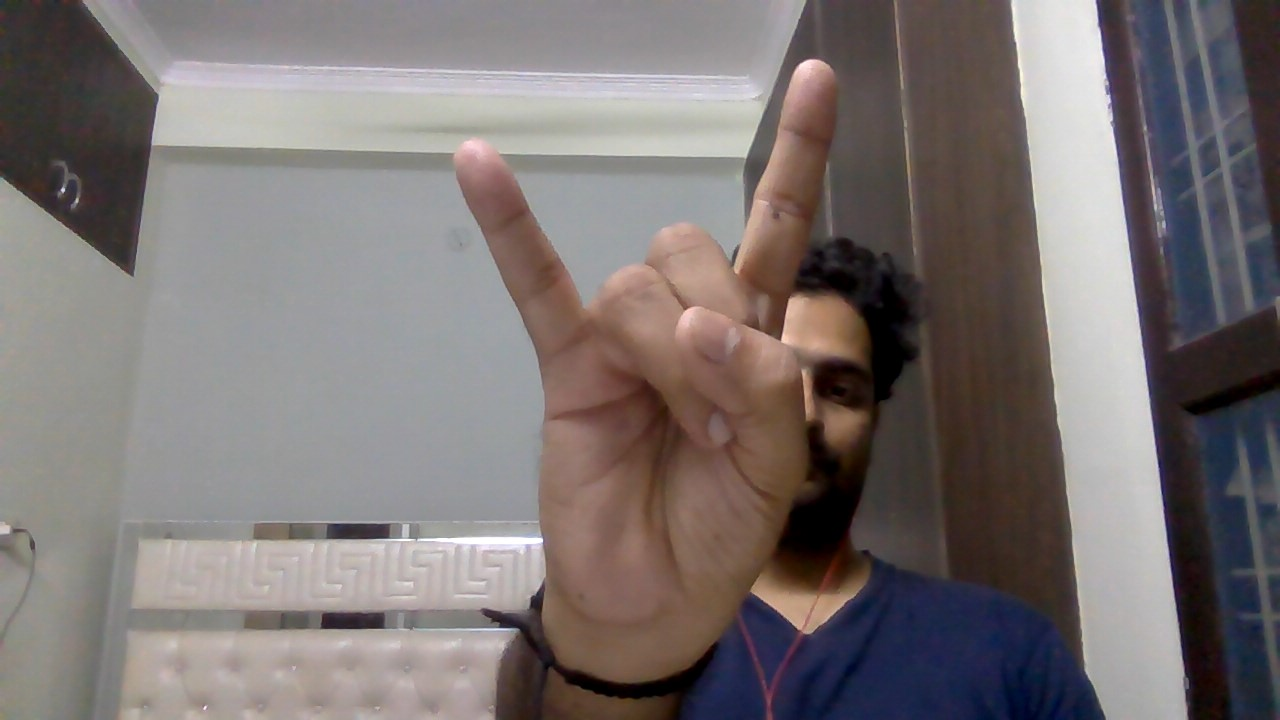Select All: (424, 55, 875, 653)
